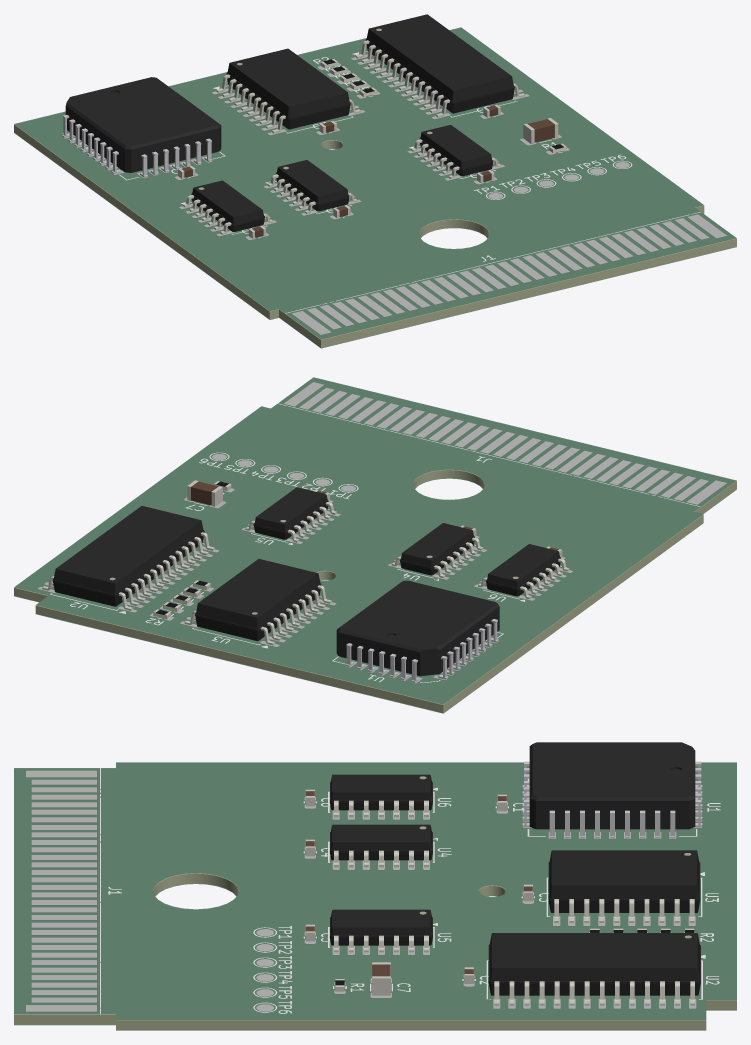
Rendered from board.glb.
3 views of the same model, one above another, from view 1: azimuth 30°, elevation 25°; view 2: azimuth 150°, elevation 25°; view 3: azimuth 270°, elevation 25° (orthographic). The views are drawn at different scales.
Parts seen in each view (by area): view 1: =>[0:1:1:22], =>[0:1:1:20], =>[0:1:1:18], body, =>[0:1:1:11], =>[0:1:1:13] (×3), =>[0:1:1:17], leads, =>[0:1:1:19], =>[0:1:1:21], =>[0:1:1:15]; view 2: =>[0:1:1:20], =>[0:1:1:22], =>[0:1:1:18], body, =>[0:1:1:11], =>[0:1:1:13] (×3), =>[0:1:1:17], =>[0:1:1:19], leads, =>[0:1:1:21], =>[0:1:1:15]; view 3: =>[0:1:1:22], =>[0:1:1:20], =>[0:1:1:18], =>[0:1:1:11], body, =>[0:1:1:13] (×3), =>[0:1:1:17], =>[0:1:1:19], leads, =>[0:1:1:21], =>[0:1:1:15].
Part boxes in pixels (x1,y1,x2,y2): =>[0:1:1:22]: [14, 28, 736, 347]; =>[0:1:1:20]: [14, 27, 736, 339]; =>[0:1:1:18]: [62, 54, 726, 334]; body: [65, 77, 221, 172]; =>[0:1:1:11]: [355, 14, 525, 117]; =>[0:1:1:13] (×3): [183, 125, 501, 234]; =>[0:1:1:17]: [216, 48, 360, 133]; leads: [62, 115, 212, 177]; =>[0:1:1:19]: [62, 51, 700, 313]; =>[0:1:1:21]: [14, 133, 736, 348]; =>[0:1:1:15]: [523, 118, 558, 143]; =>[0:1:1:20]: [14, 377, 736, 704]; =>[0:1:1:22]: [14, 378, 736, 713]; =>[0:1:1:18]: [38, 382, 726, 683]; body: [336, 580, 499, 676]; =>[0:1:1:11]: [42, 506, 214, 610]; =>[0:1:1:13] (×3): [245, 487, 569, 599]; =>[0:1:1:17]: [184, 559, 331, 645]; =>[0:1:1:19]: [50, 403, 700, 682]; leads: [345, 619, 498, 683]; =>[0:1:1:21]: [14, 478, 736, 713]; =>[0:1:1:15]: [187, 480, 222, 506]; =>[0:1:1:22]: [14, 763, 736, 1030]; =>[0:1:1:20]: [14, 762, 736, 1019]; =>[0:1:1:18]: [26, 771, 701, 1011]; =>[0:1:1:11]: [488, 933, 700, 1005]; body: [529, 742, 695, 829]; =>[0:1:1:13] (×3): [330, 774, 432, 952]; =>[0:1:1:17]: [548, 850, 700, 922]; =>[0:1:1:19]: [100, 767, 720, 1013]; leads: [522, 761, 702, 838]; =>[0:1:1:21]: [14, 883, 736, 1030]; =>[0:1:1:15]: [372, 962, 390, 995].
Bounding box in the file's own units: 0.0514 × 0.00455 × 0.061.
